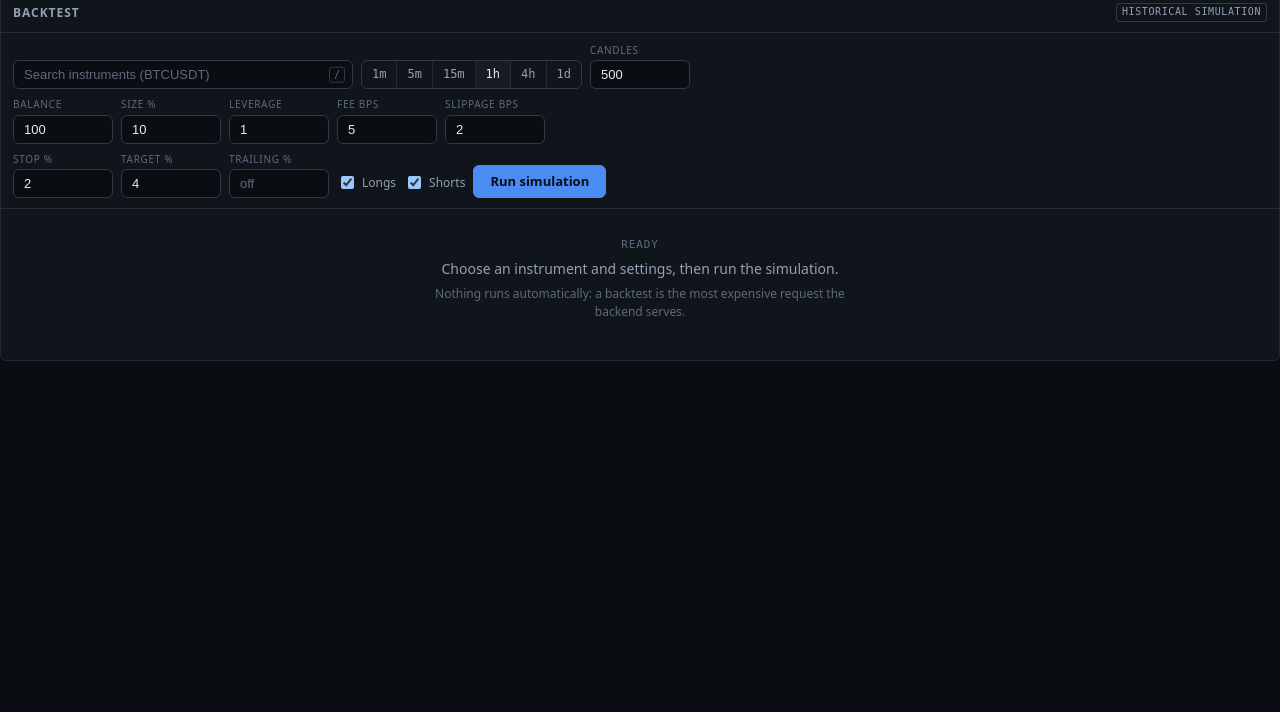
Test: BacktestPage › says plainly when no trades were taken
Click the button "Run simulation": (540, 182) [473,165,606,198]
(page scrolled)
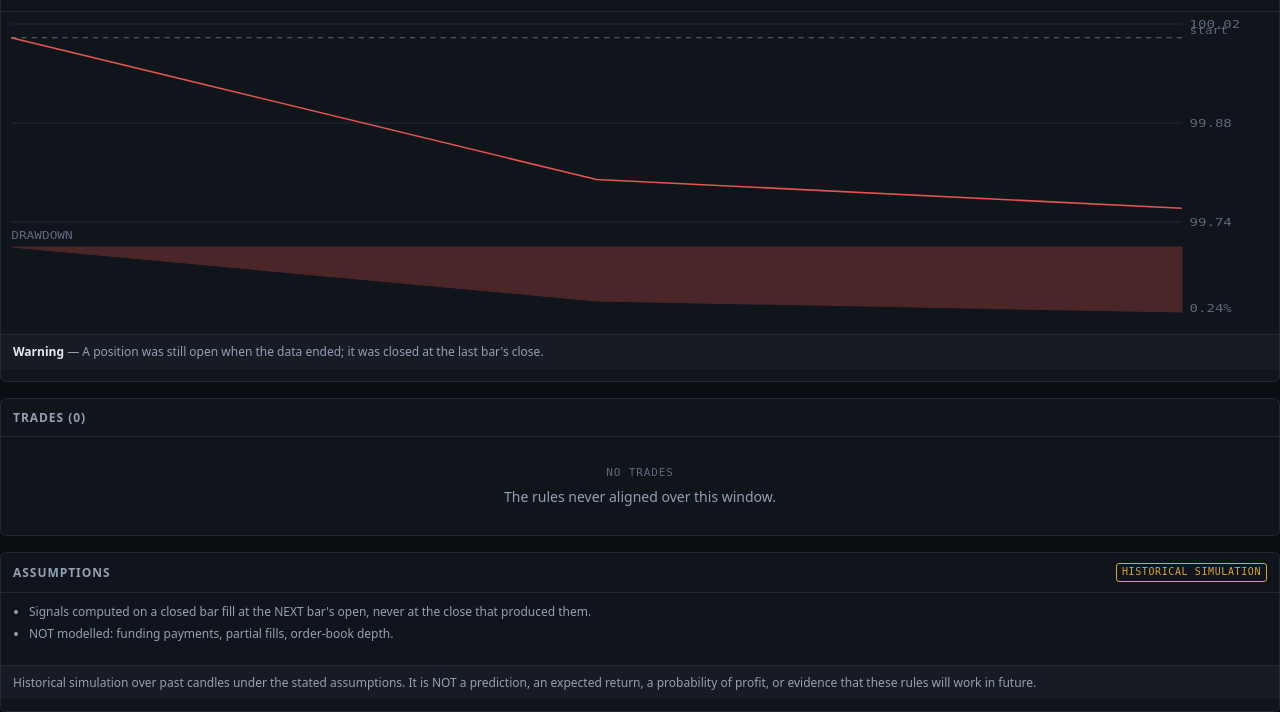
Expected: the text "NO TRADES" is shown, [606,466,674,479]
